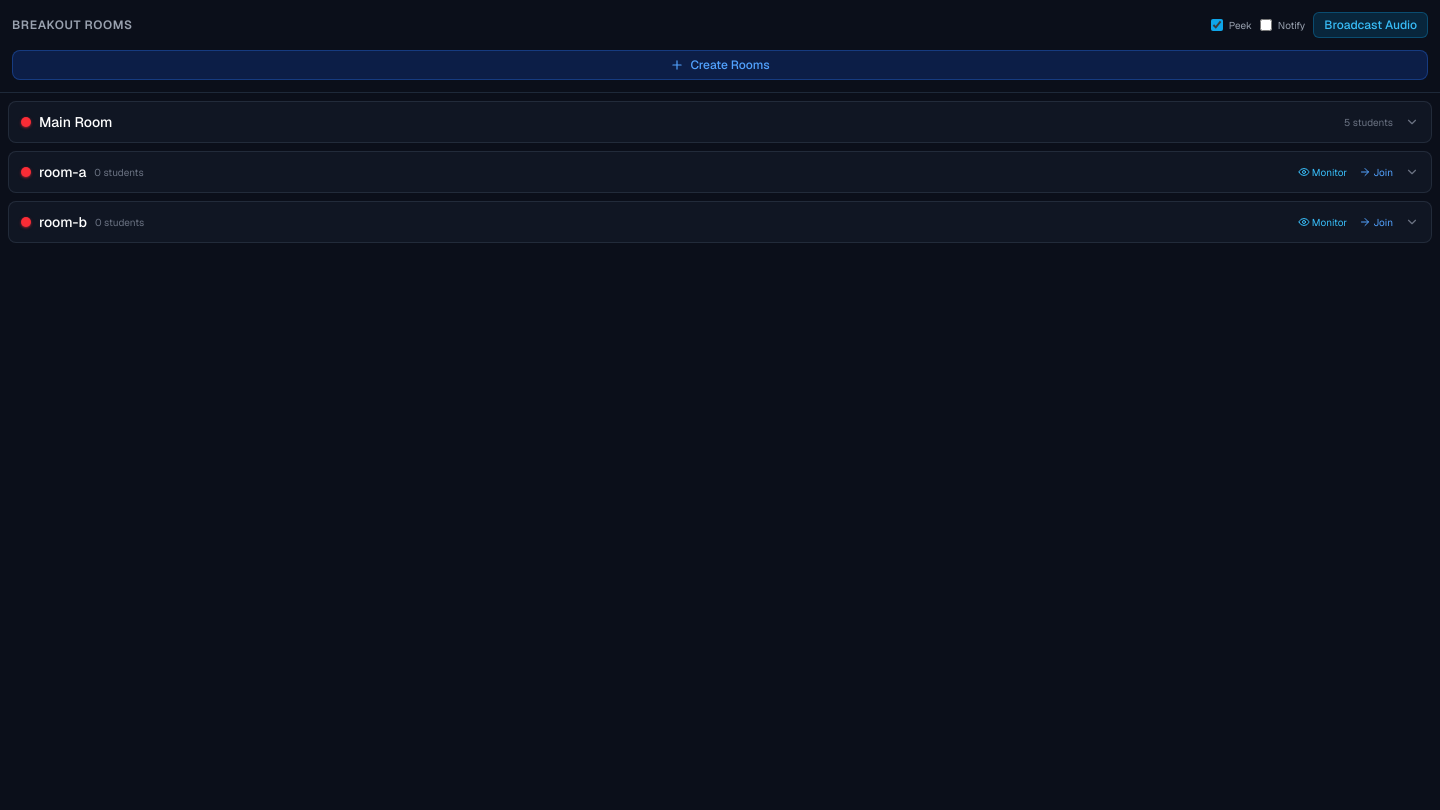
BreakoutTab — Modal integration with auto shuffle › after modal auto-shuffle create, rooms appear in sidebar
Note: Open modal
Click the button with test id "create-rooms-btn" at (720, 65), box x1=12 y1=50 x2=1428 y2=80
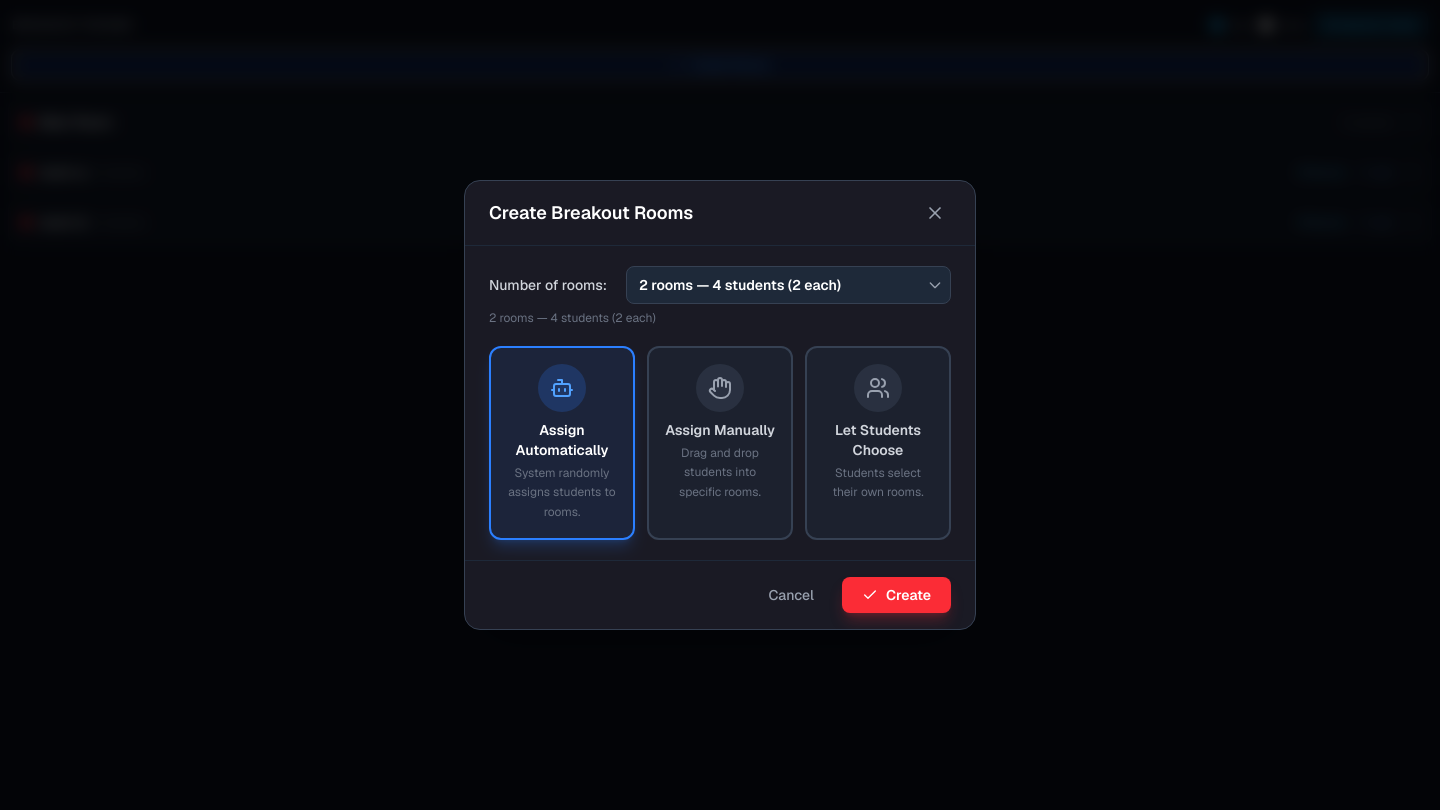
Check: the element with test id "create-breakout-modal" is shown
Note: Click create (auto mode by default)
Click the button with test id "modal-create-btn" at (896, 595), box x1=842 y1=577 x2=951 y2=613
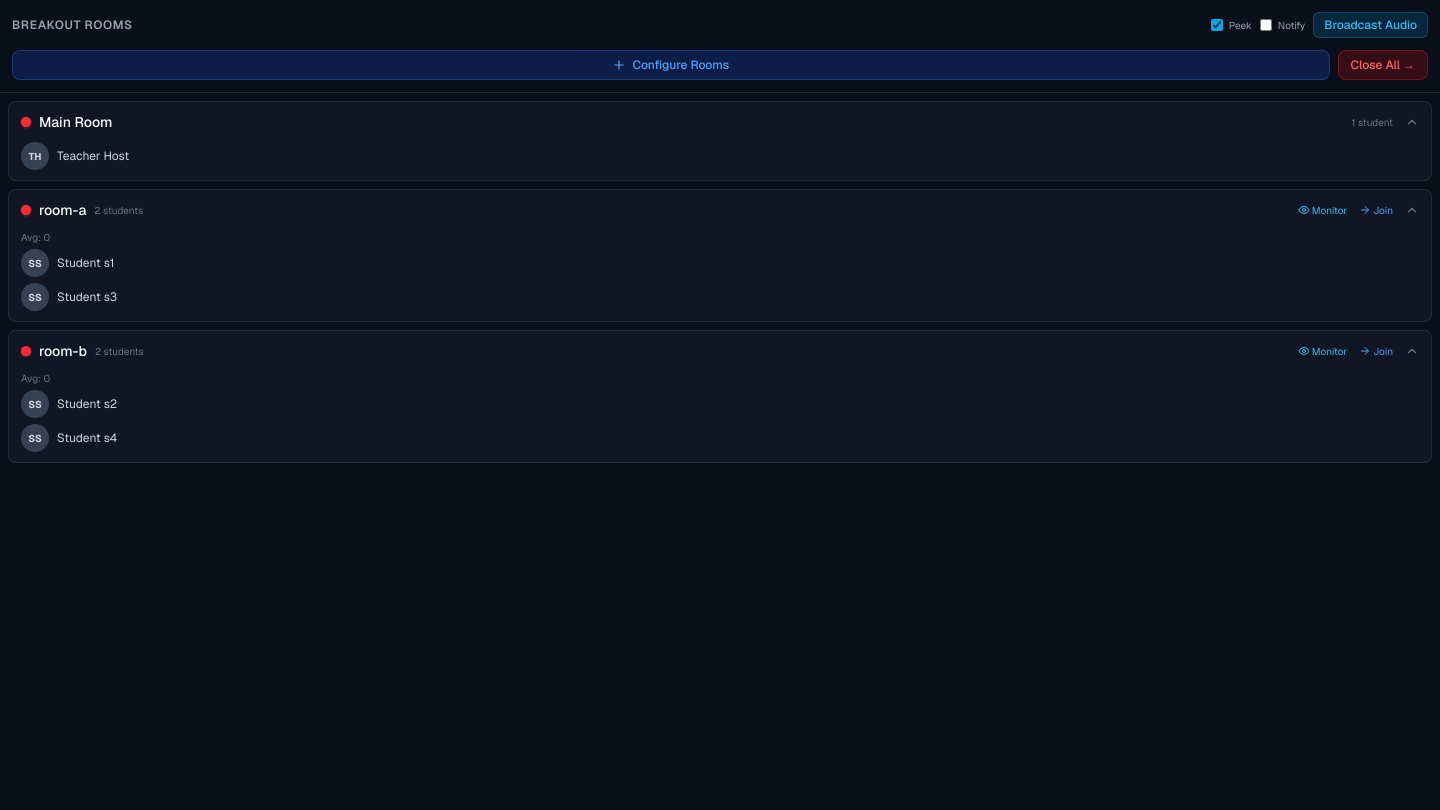
Check: the element with test id "create-breakout-modal" is gone
